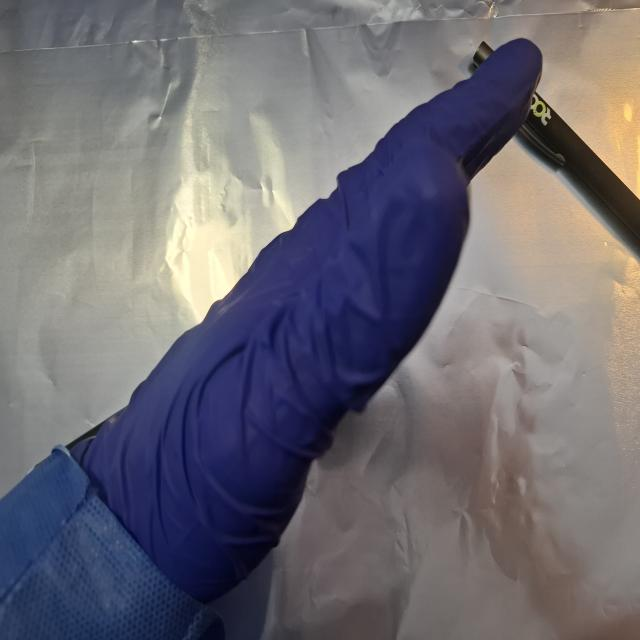glove_on: (52, 32, 546, 604)
